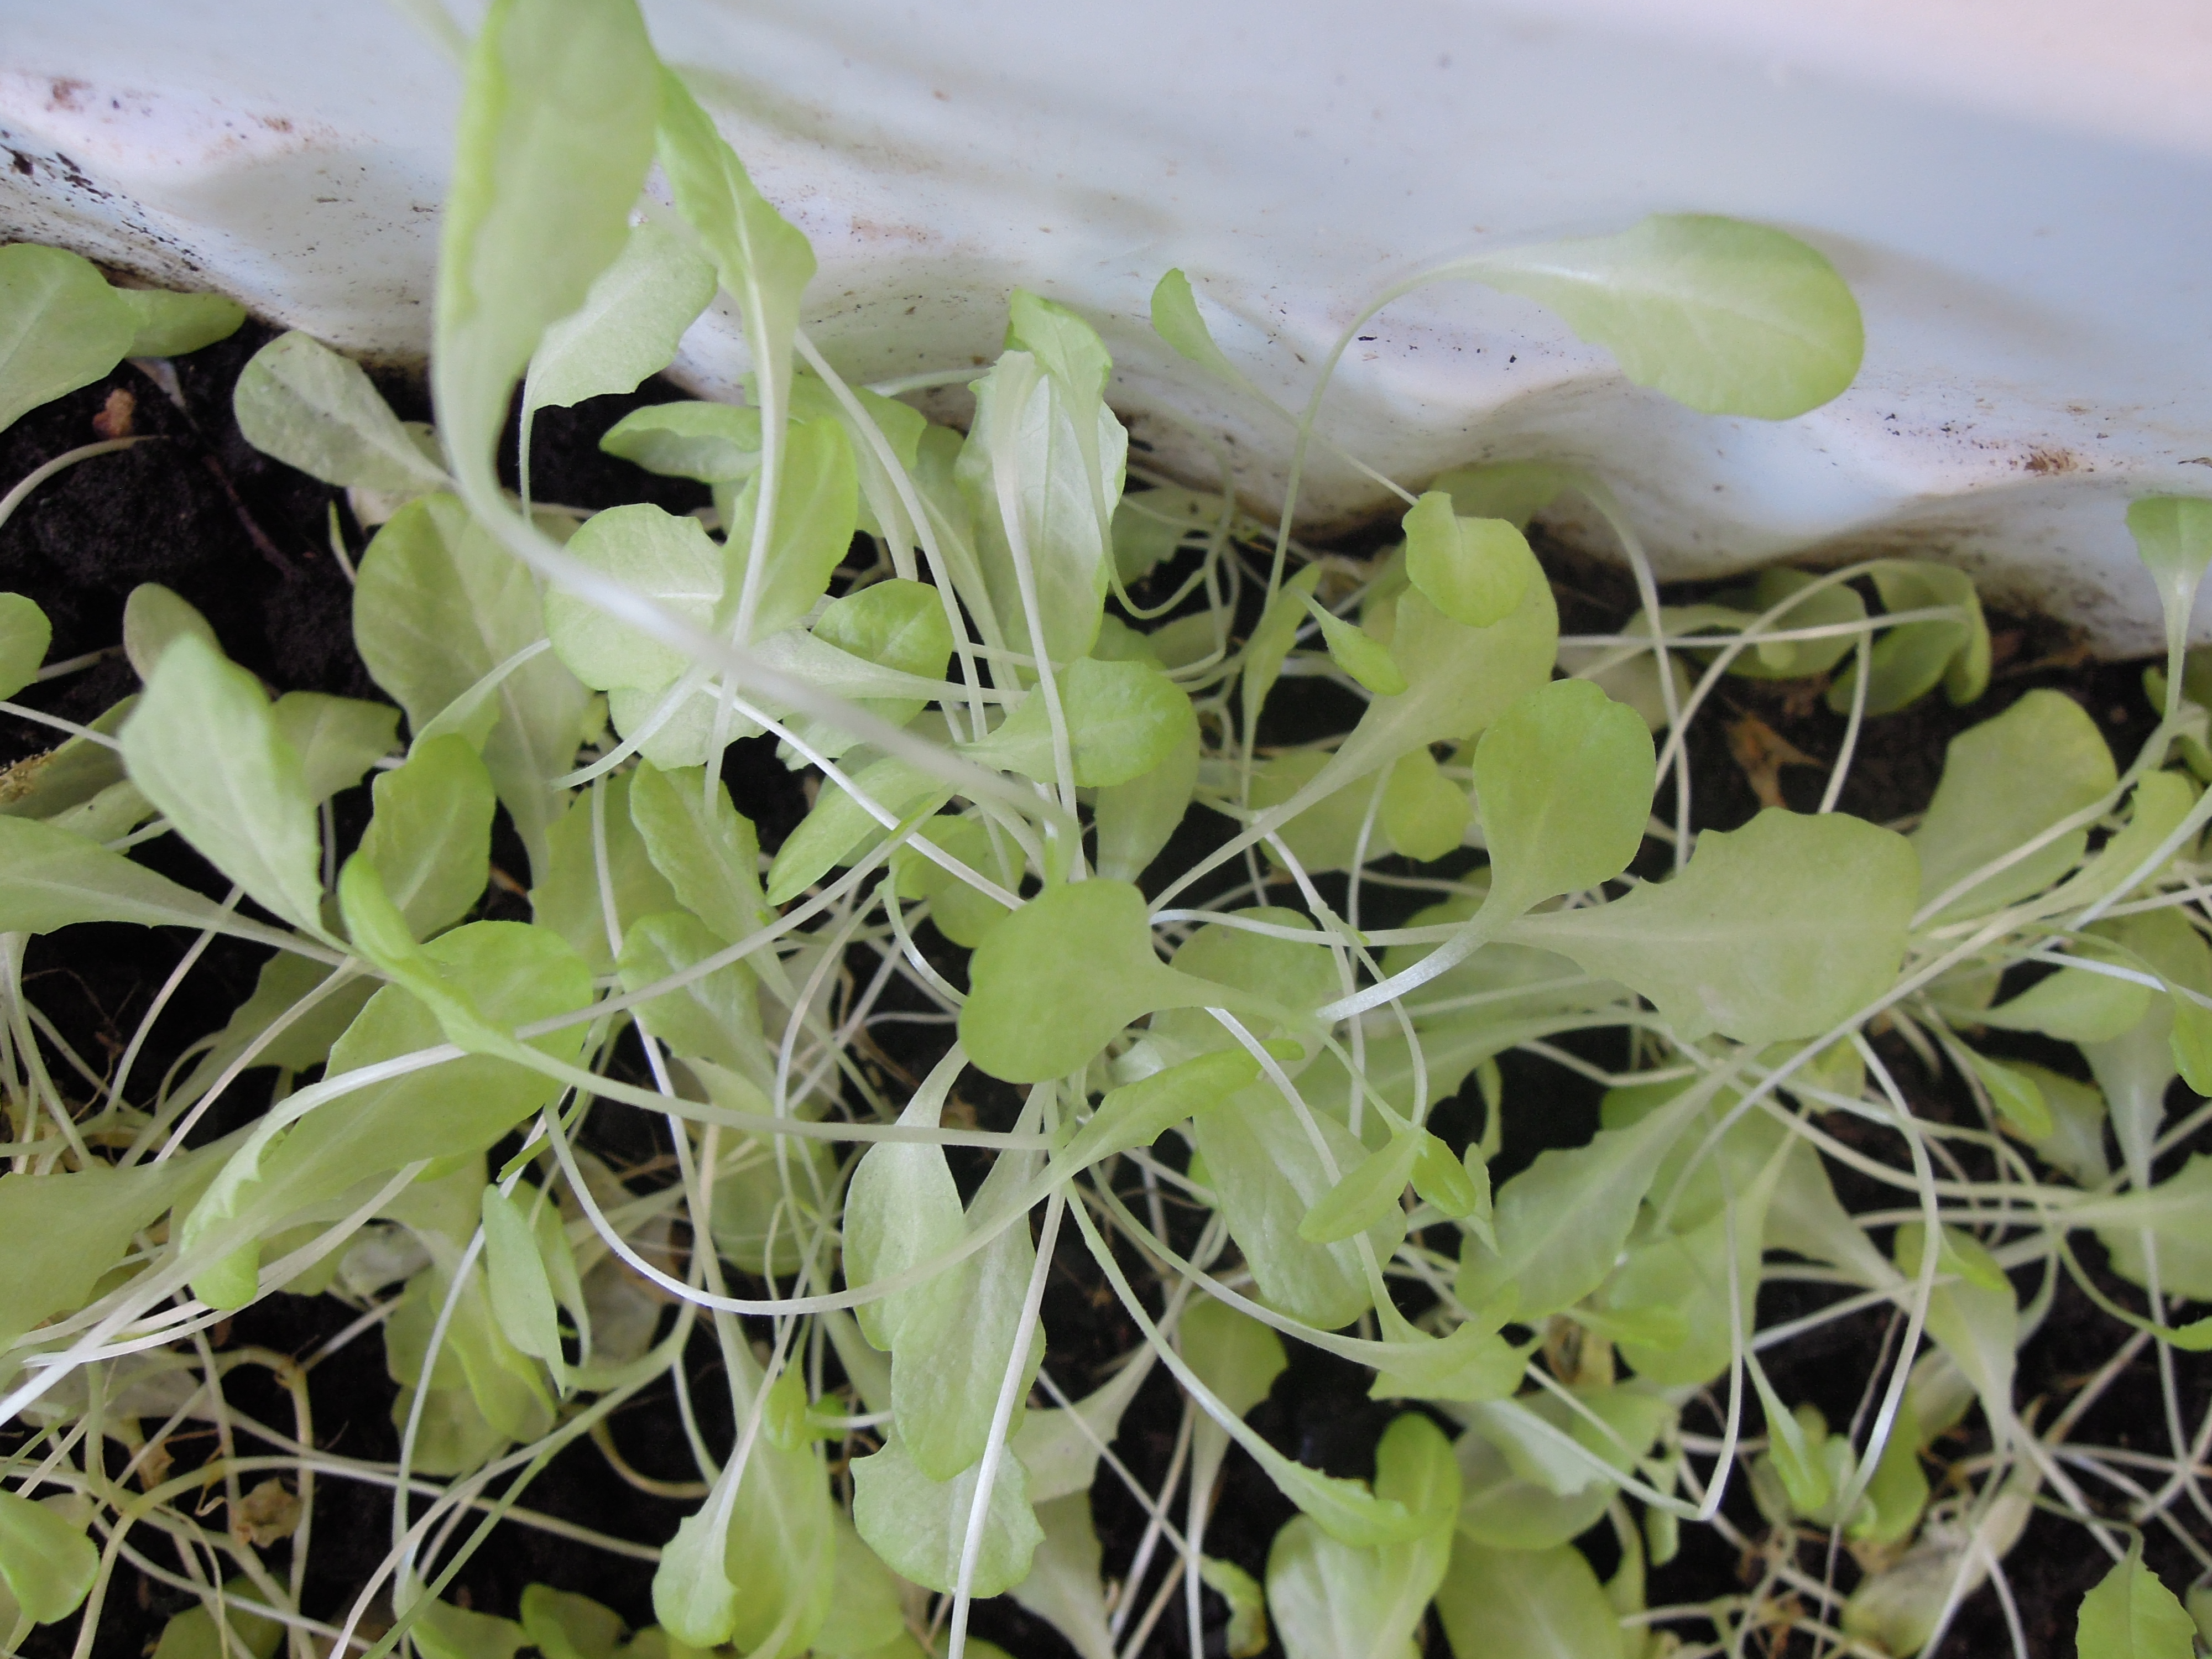weeek6: (279, 47, 1980, 1481)
